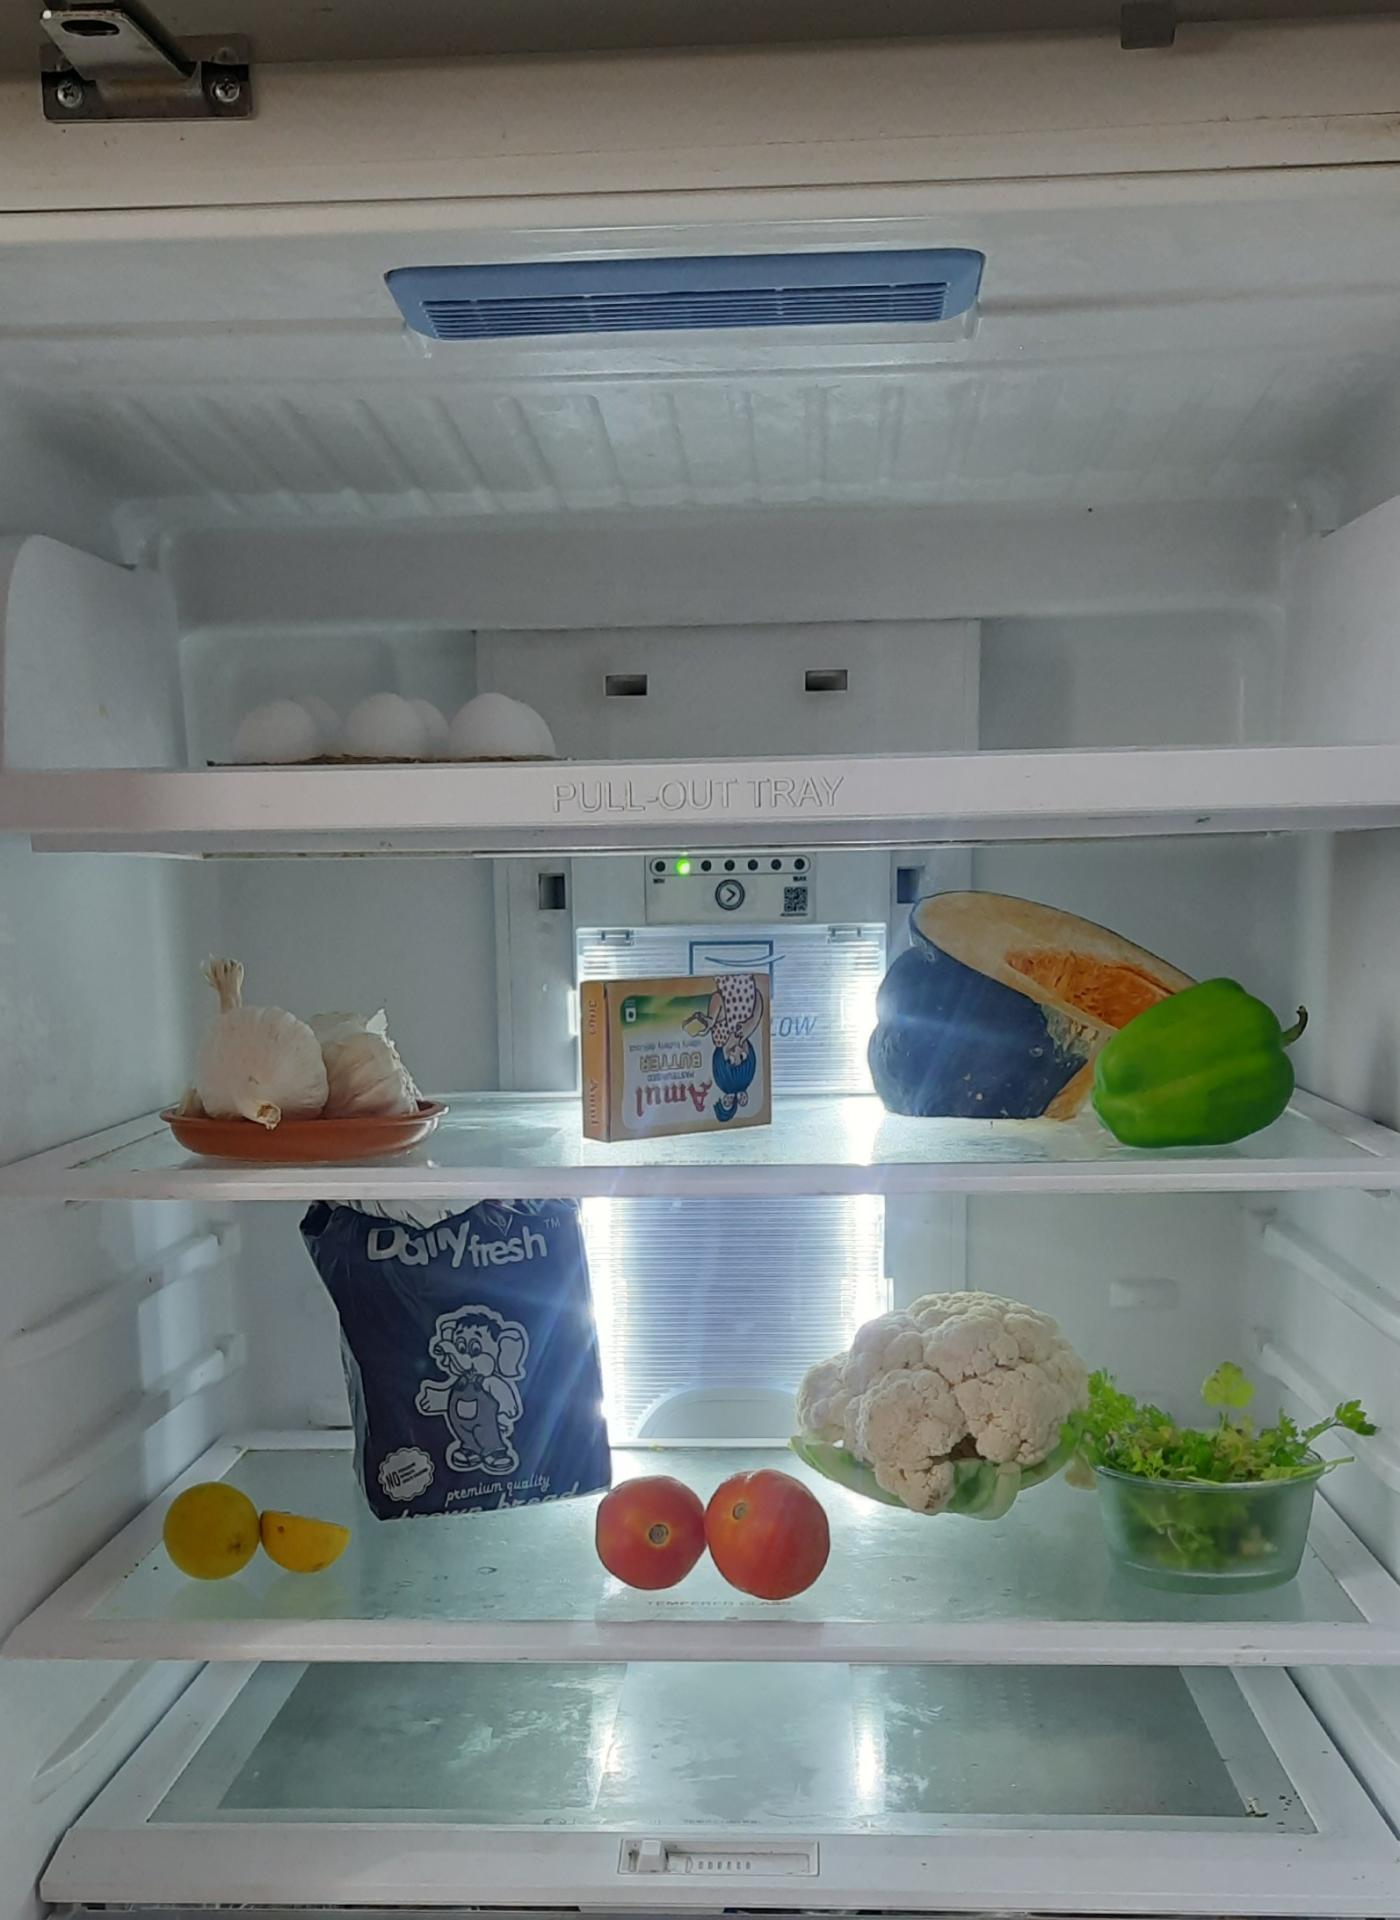bread: (312, 1187, 616, 1518)
butter: (580, 973, 774, 1143)
capsicum: (1096, 993, 1308, 1164)
cauliflower: (790, 1286, 1099, 1515)
coriander: (1082, 1374, 1351, 1583)
garlic: (171, 951, 444, 1133)
lemon: (161, 1483, 356, 1582)
pumpkin: (871, 878, 1211, 1125)
tomato: (595, 1465, 836, 1598)
